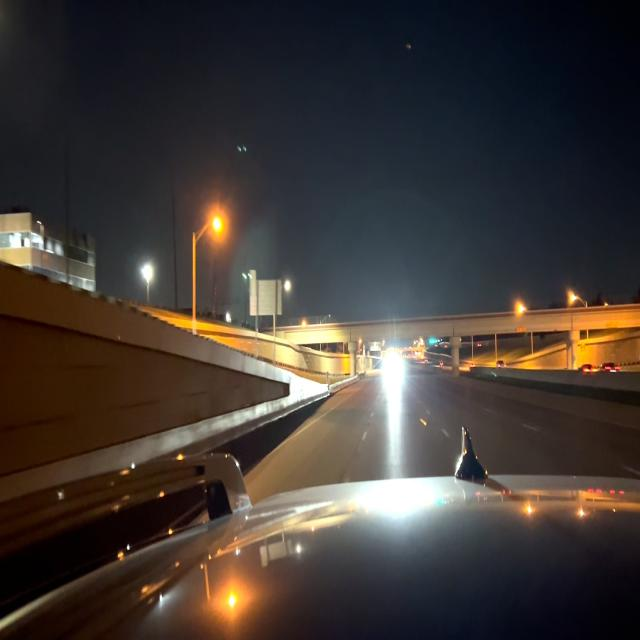back-of-sign: (250, 280, 282, 316), (250, 269, 256, 280)
